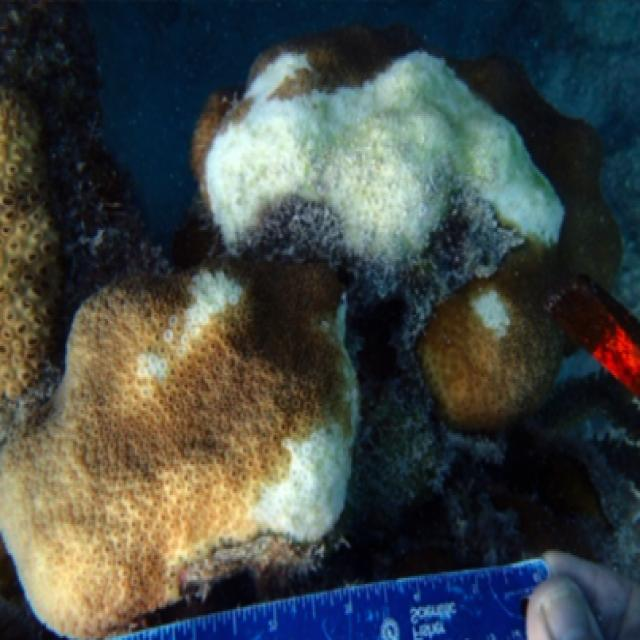Coral: (191, 19, 631, 436), (0, 258, 361, 640), (0, 80, 64, 401)
